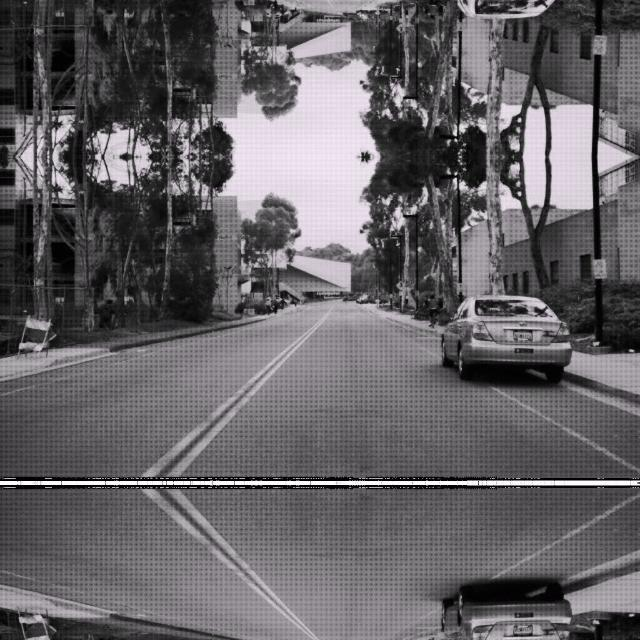pedestrianCrossing: (395, 278, 405, 288), (395, 24, 405, 34)
